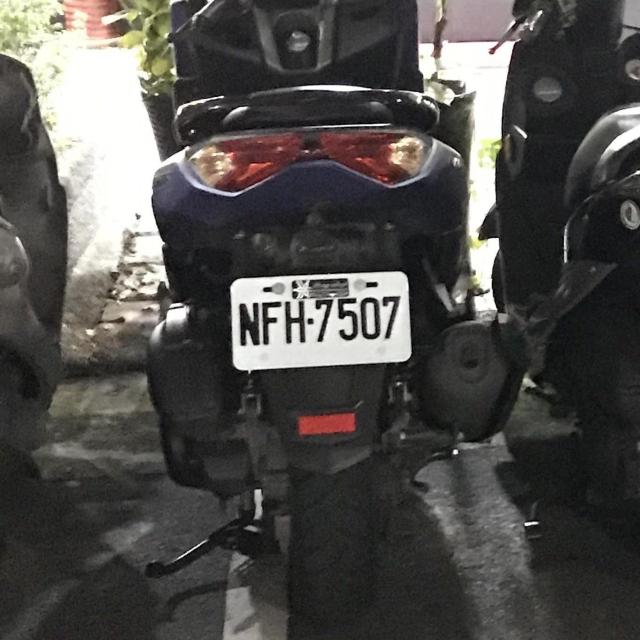W: (227, 264, 418, 377)
